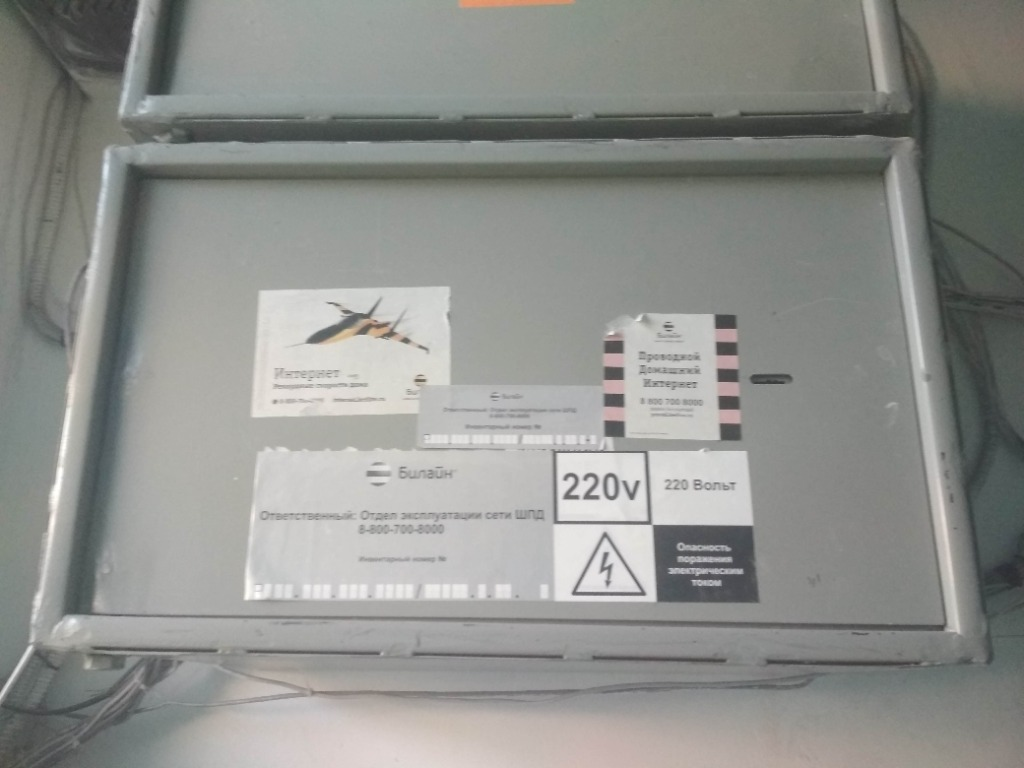e2-6u: (24, 126, 1003, 665)
